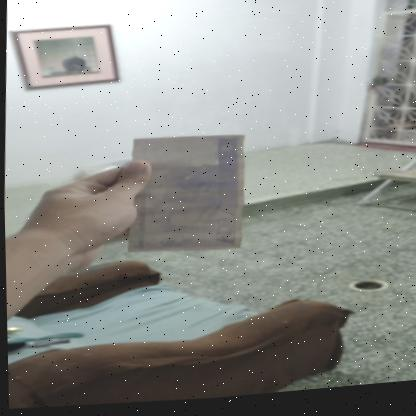vef_back: (123, 134, 246, 263)
